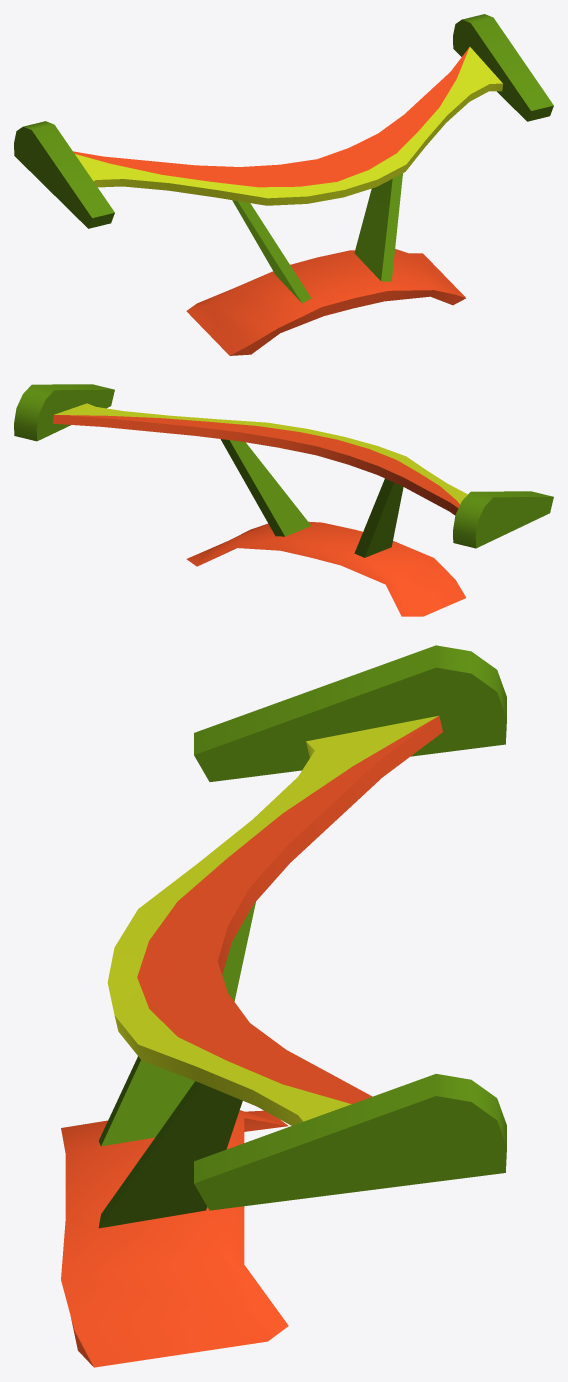
The model's file is LuxSpoiler01R03.gltf.
3 renders of one model, top to bottom at view 1: azimuth 30°, elevation 25°; view 2: azimuth 150°, elevation 25°; view 3: azimuth 270°, elevation 25°, orthographic. The views are drawn at different scales.
Parts seen in each view (by area): view 1: LuxSpoiler01R03; view 2: LuxSpoiler01R03; view 3: LuxSpoiler01R03.
Part boxes in pixels (x1,y1,x2,y2): LuxSpoiler01R03: [14, 14, 553, 355]; LuxSpoiler01R03: [14, 384, 553, 616]; LuxSpoiler01R03: [61, 645, 506, 1367].
Bounding box in the file's own units: 0.1729 × 0.0683 × 0.0724.
Materials: 1 (1 with a texture image).
